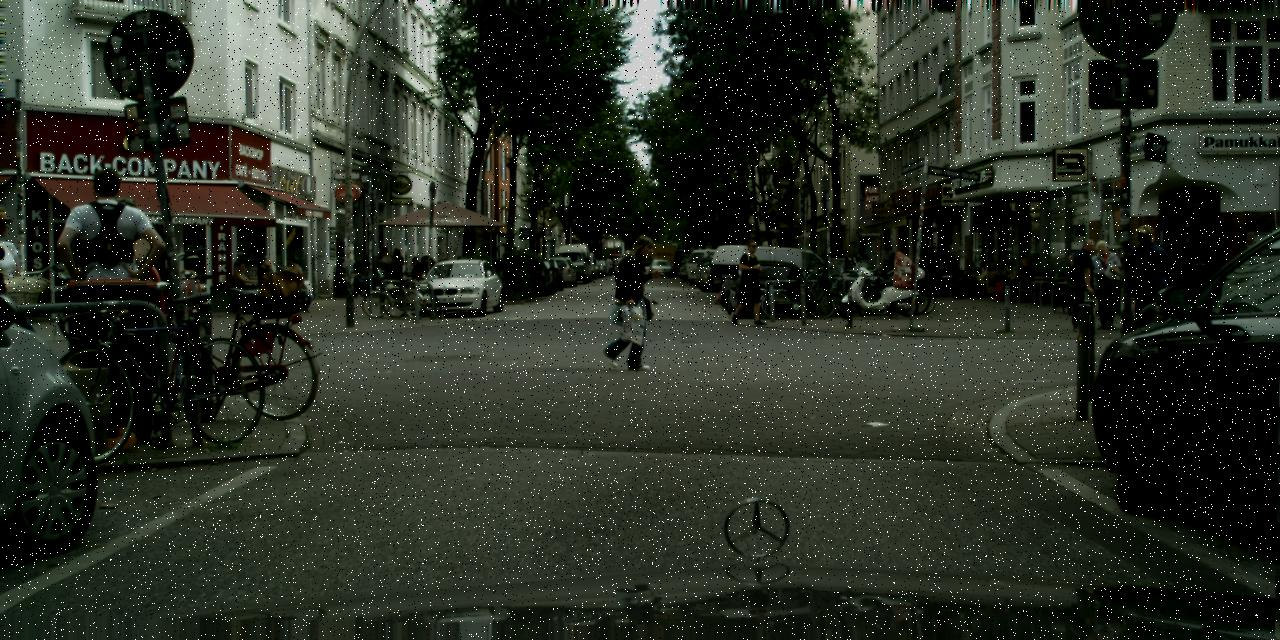ped: (58, 168, 161, 418), (86, 196, 162, 383), (0, 206, 41, 386), (606, 234, 660, 368), (1122, 224, 1172, 344), (1065, 238, 1103, 331), (1086, 240, 1122, 328), (731, 238, 766, 323), (388, 247, 406, 292), (376, 248, 394, 292), (854, 247, 868, 280), (840, 249, 851, 275), (683, 255, 693, 281)
